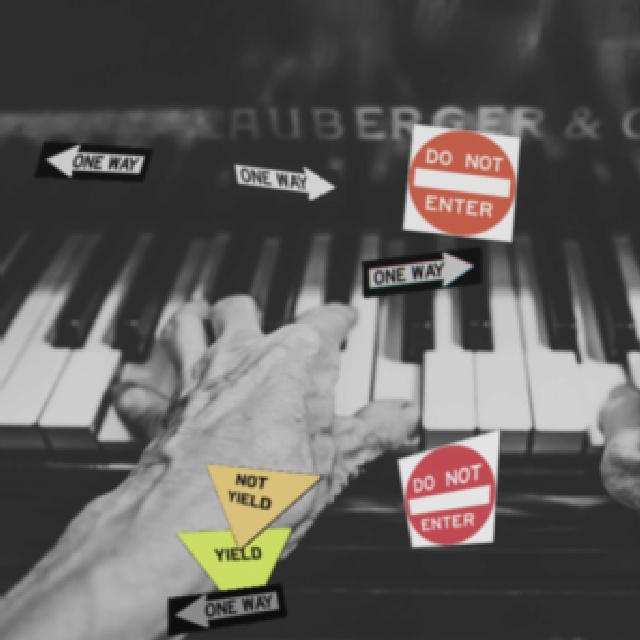DO_NOT_ENTER: (400, 121, 520, 242), (395, 426, 500, 547)
NOT_YIELD: (203, 461, 324, 550)
ONE_WAY_ left: (165, 581, 286, 635), (31, 139, 152, 181)
ONE_WAY_ right: (360, 244, 481, 297), (225, 153, 346, 206)
YIELD: (172, 525, 293, 625)
